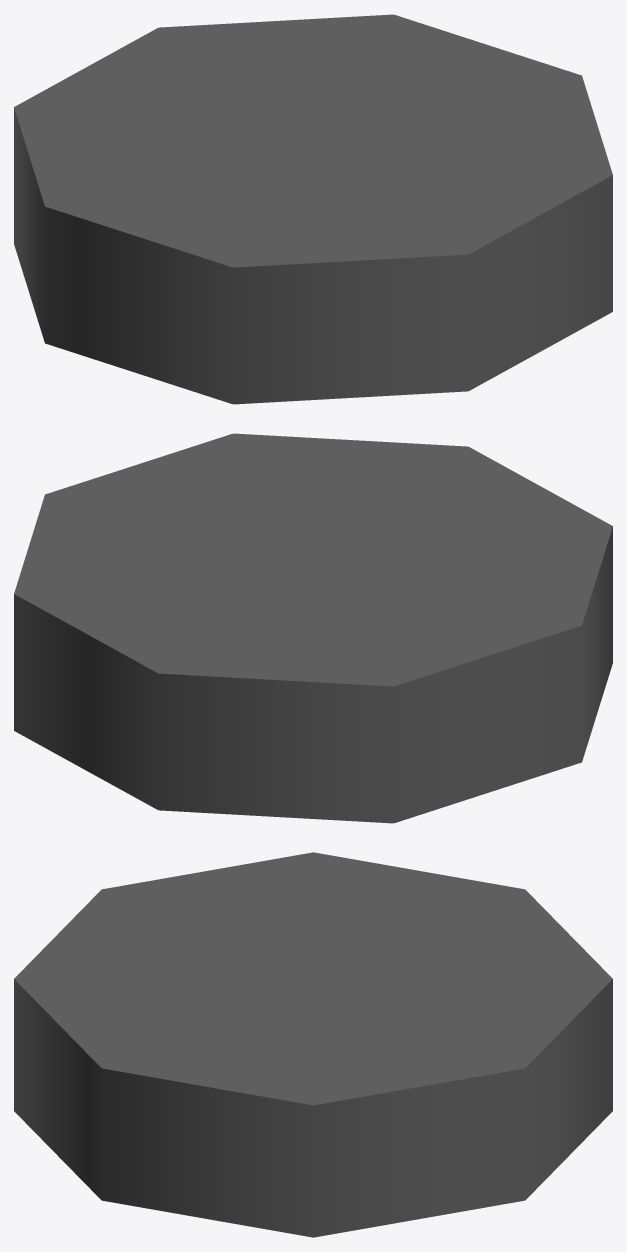
The model's file is SM_Wiggler.fbx.
3 views of the same model, one above another, from view 1: azimuth 30°, elevation 25°; view 2: azimuth 150°, elevation 25°; view 3: azimuth 270°, elevation 25° (orthographic). The views are drawn at different scales.
Visible parts, largest first — view 1: Wiggler; view 2: Wiggler; view 3: Wiggler.
Part boxes in pixels (x1,y1,x2,y2): Wiggler: [14, 14, 612, 404]; Wiggler: [14, 433, 612, 823]; Wiggler: [14, 852, 612, 1237].
Size of the model in its own units: 0.1278 by 0.0311 by 0.1278.
Materials: 1 (1 with a texture image).
